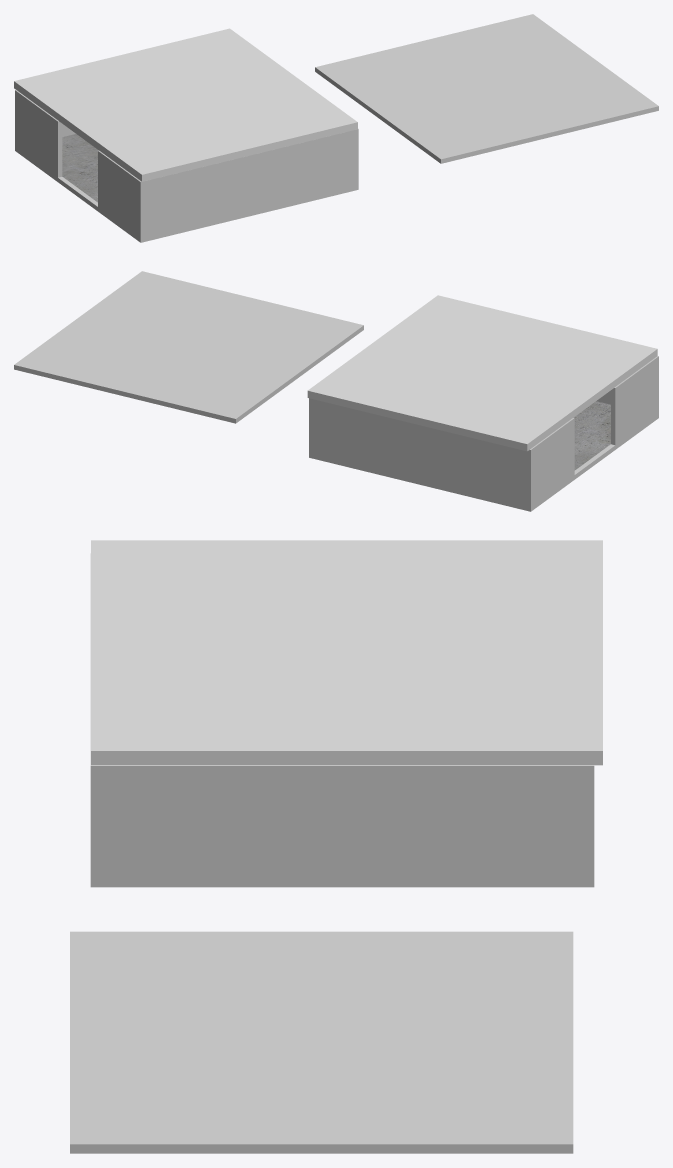
Rendered from museum.gltf.
3 views of the same model, one above another, from view 1: azimuth 30°, elevation 25°; view 2: azimuth 150°, elevation 25°; view 3: azimuth 270°, elevation 25° (orthographic). The views are drawn at different scales.
Parts seen in each view (by area): view 1: Cube, Cube.001; view 2: Cube, Cube.001; view 3: Cube, Cube.001.
Part boxes in pixels (x1,y1,x2,y2): Cube: (15, 14, 658, 242); Cube.001: (14, 28, 357, 181); Cube: (14, 271, 658, 511); Cube.001: (307, 295, 657, 451); Cube: (70, 553, 594, 1153); Cube.001: (91, 540, 602, 765).
Size of the model in its own units: 47.06 by 5.94 by 21.18.
12 materials, 6 textured.
